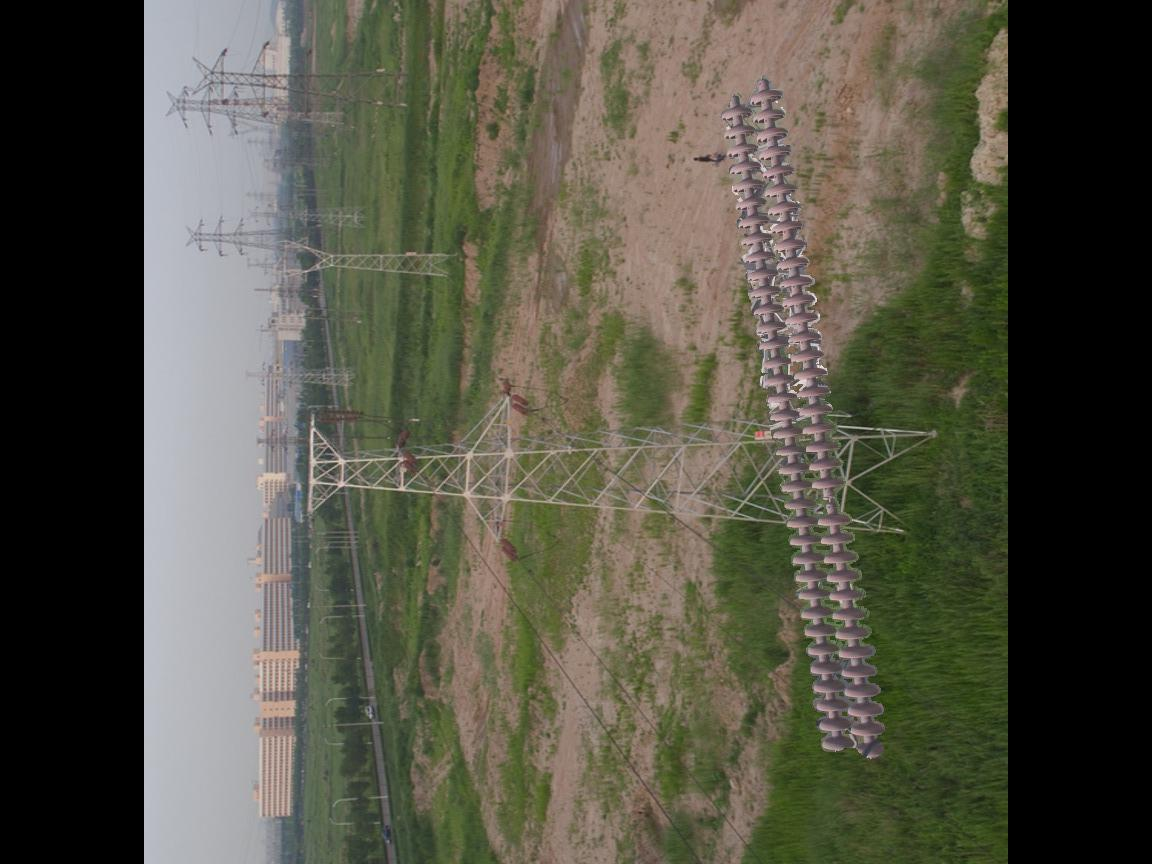insulator: (714, 83, 892, 770)
insulator_stringdrop: (807, 474, 852, 531)
